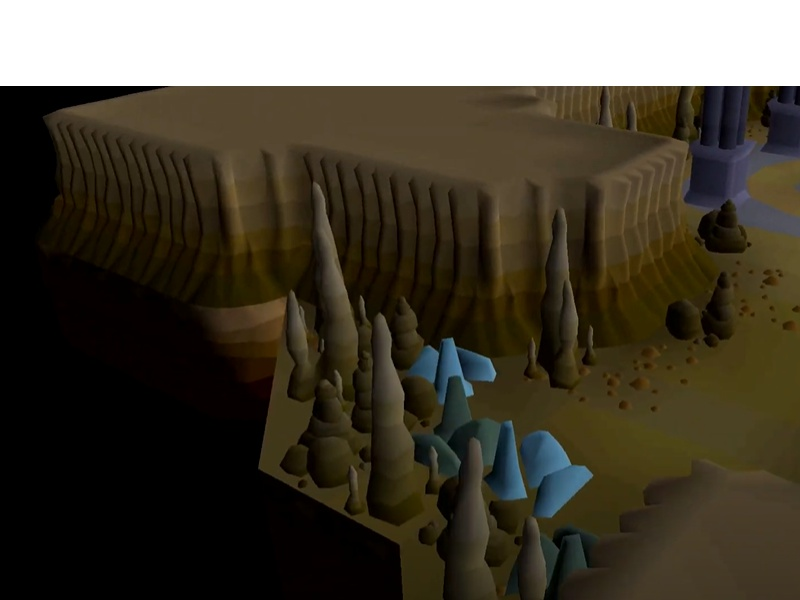adamant: (411, 375, 512, 479), (538, 522, 603, 587)
rune: (480, 418, 598, 523), (405, 335, 500, 407)
